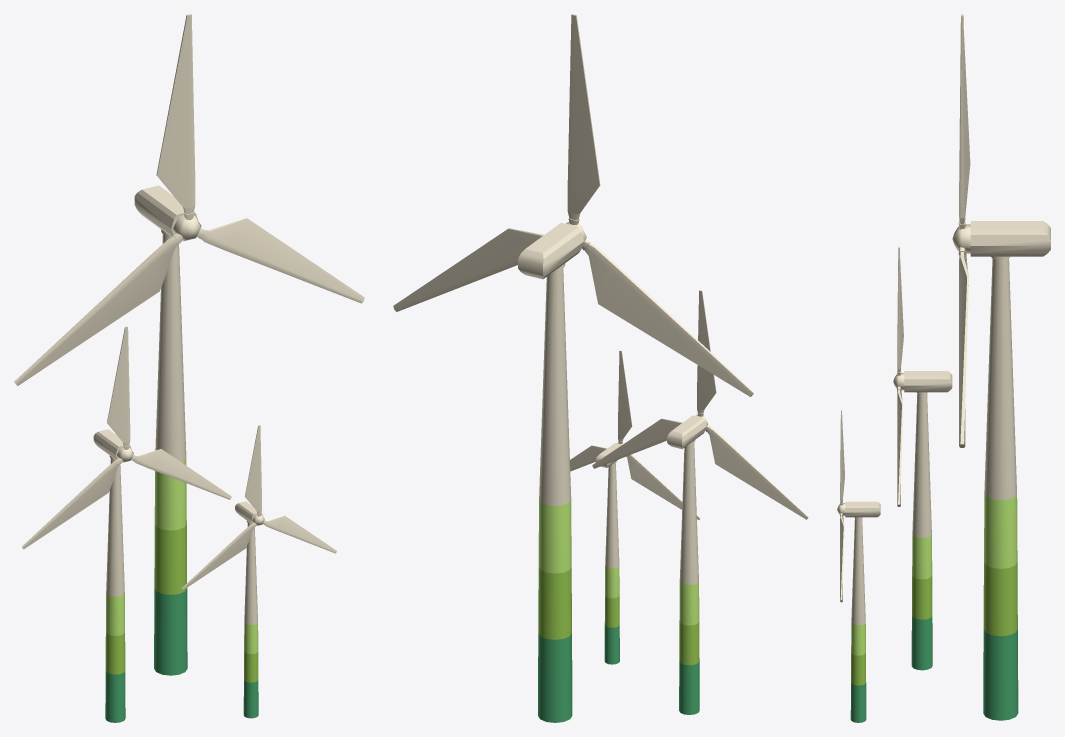
File: M_Windmill_Var2_3.fbx
The picture shows the model from 3 angles, left to right: view 1: azimuth 30°, elevation 25°; view 2: azimuth 150°, elevation 25°; view 3: azimuth 270°, elevation 25°; orthographic projection. The views are drawn at different scales.
Parts seen in each view (by area): view 1: M_Windmill_Var2_3; view 2: M_Windmill_Var2_3; view 3: M_Windmill_Var2_3.
Part boxes in pixels (<box>): M_Windmill_Var2_3: <box>14,14,364,722</box>; M_Windmill_Var2_3: <box>393,14,808,722</box>; M_Windmill_Var2_3: <box>837,14,1050,722</box>.
Bounding box in the file's own units: 2.12 × 3.63 × 1.01.
